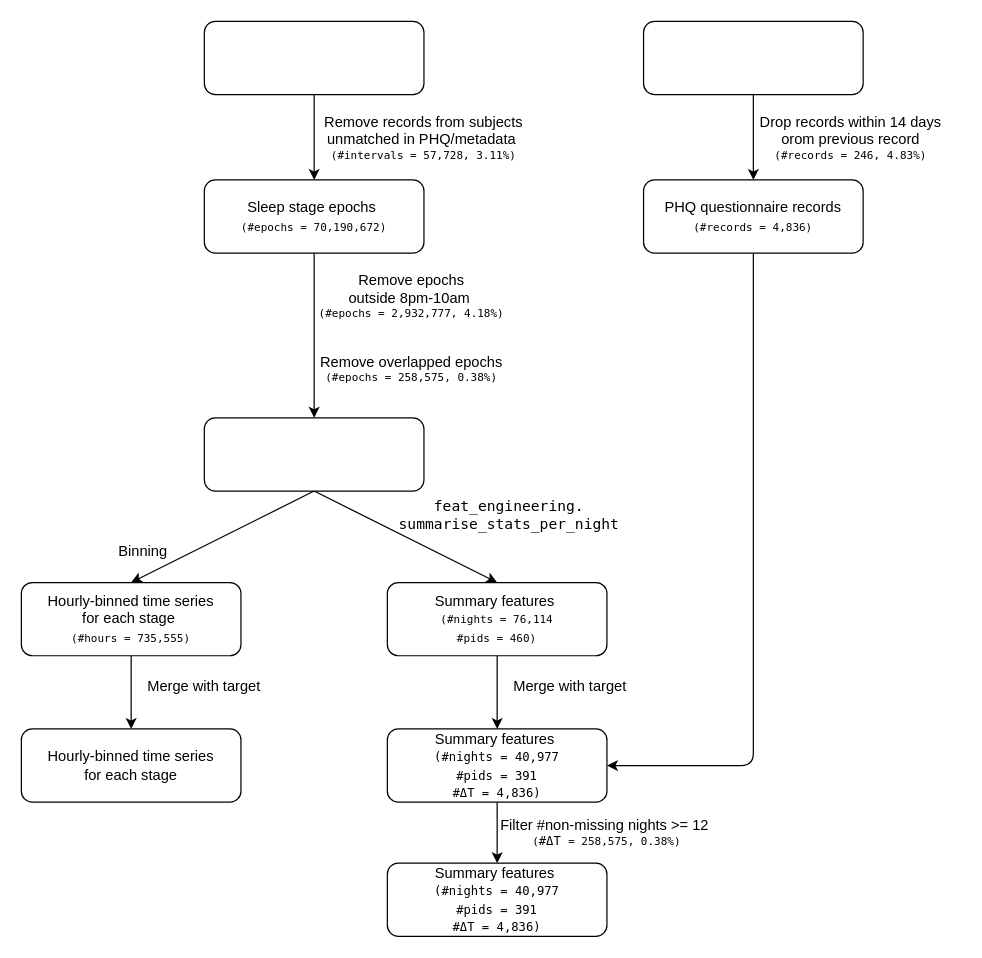
Some shapes in this 982 by 958 pixel diagram are drawn without their labels. The centre of each missing label's shape, as x and y in pixels:
"Non-overlapped epochs (#epochs = 70,830,210 )" belongs at [313,454].
"PHQ questionnaire records before 2022.01.31 (#records = 5,082)" belongs at [752,57].
"Sleep stage intervals (#intervals=1,855,957) (#hours=618,082)" belongs at [313,57].
